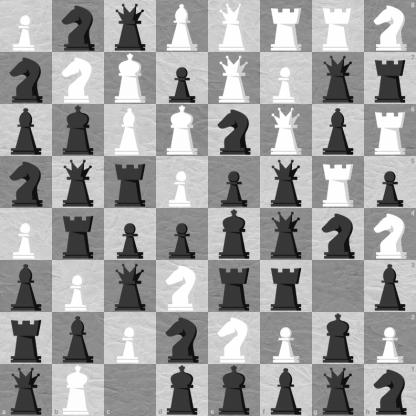B: (105, 105, 156, 156), (157, 1, 208, 52)
K: (52, 364, 104, 416), (105, 53, 156, 104), (157, 105, 208, 156)
N: (364, 0, 416, 52), (364, 209, 416, 260), (53, 53, 104, 104), (157, 261, 208, 312), (209, 313, 260, 364)
P: (364, 312, 416, 364), (1, 1, 52, 52), (1, 209, 52, 260), (53, 261, 104, 312), (105, 313, 156, 364), (157, 157, 208, 208), (261, 53, 312, 104), (261, 313, 312, 364)
Q: (209, 1, 260, 52), (209, 53, 260, 104), (261, 105, 312, 156)
R: (364, 104, 416, 156), (261, 1, 312, 52), (313, 1, 364, 52), (313, 157, 364, 208)
b: (260, 364, 312, 416), (364, 260, 416, 312), (1, 105, 52, 156), (1, 261, 52, 312), (53, 313, 104, 364), (313, 105, 364, 156)
board: (0, 0, 415, 415)
k: (156, 364, 209, 416), (209, 364, 260, 416), (53, 105, 104, 156), (209, 209, 260, 260), (313, 313, 364, 364)
n: (364, 364, 416, 416), (1, 53, 52, 104), (1, 157, 52, 208), (53, 1, 104, 52), (157, 313, 208, 364), (209, 105, 260, 156), (313, 209, 364, 260)
p: (364, 156, 416, 209), (105, 209, 156, 260), (157, 53, 208, 104), (157, 209, 208, 260), (209, 157, 260, 208)
q: (0, 364, 52, 416), (312, 364, 364, 416), (53, 157, 104, 208), (105, 1, 156, 52), (105, 261, 156, 312), (261, 157, 312, 208), (261, 209, 312, 260), (313, 53, 364, 104)
r: (364, 52, 416, 104), (1, 313, 52, 364), (53, 209, 104, 260), (105, 157, 156, 208), (209, 261, 260, 312), (261, 261, 312, 312)
